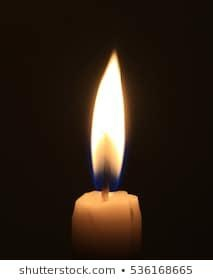fire: (87, 44, 127, 192)
